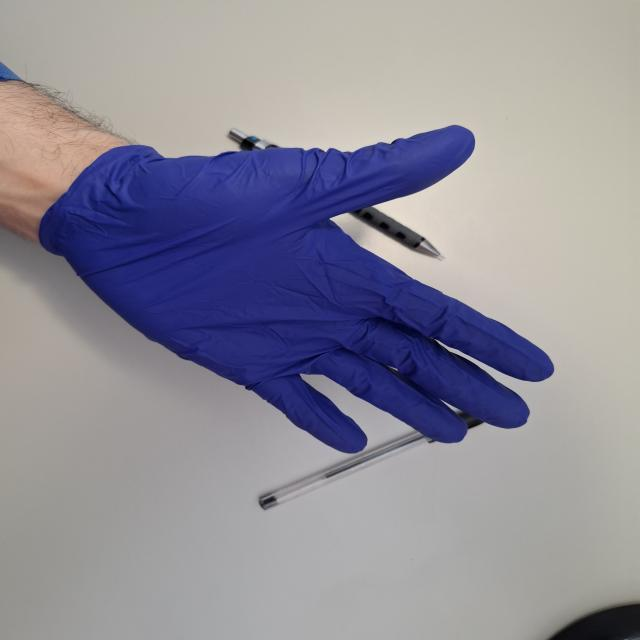glove_on: (37, 122, 560, 456)
